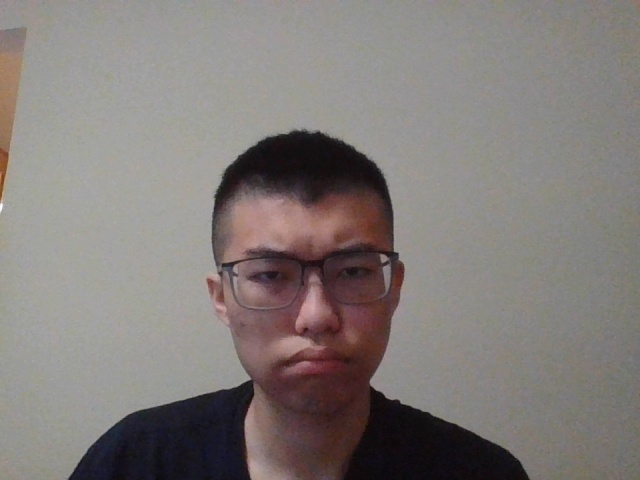anger: (204, 130, 407, 420)
